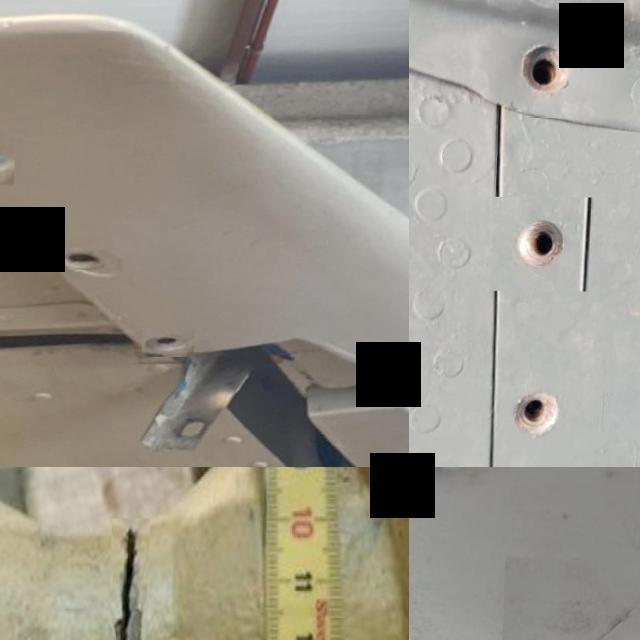Crack: (503, 557, 640, 640), (113, 518, 145, 640)
Missing_Fastener: (496, 12, 608, 122), (482, 364, 590, 466), (493, 197, 595, 290), (61, 246, 123, 278), (145, 328, 198, 357), (0, 140, 16, 184)
